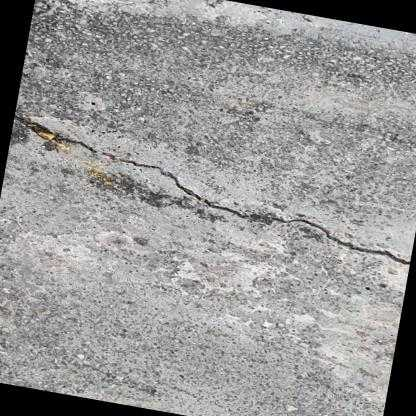crack: (12, 112, 410, 266)
